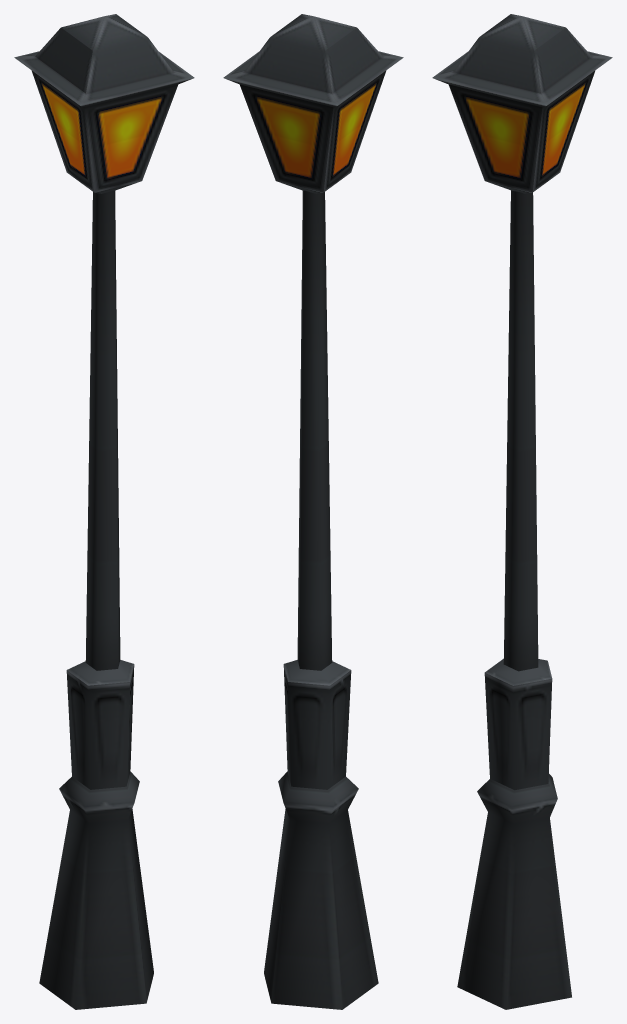
The model's file is Item_Streetlights.FBX.
3 views of the same model, side by side, from view 1: azimuth 30°, elevation 25°; view 2: azimuth 150°, elevation 25°; view 3: azimuth 330°, elevation 25° (orthographic).
Parts seen in each view (by area): view 1: Item_Streetlights; view 2: Item_Streetlights; view 3: Item_Streetlights.
Part boxes in pixels (x1,y1,x2,y2): Item_Streetlights: [14, 14, 194, 1009]; Item_Streetlights: [223, 14, 403, 1009]; Item_Streetlights: [432, 14, 612, 1009].
Size of the model in its own units: 49.09 by 396 by 49.09.
